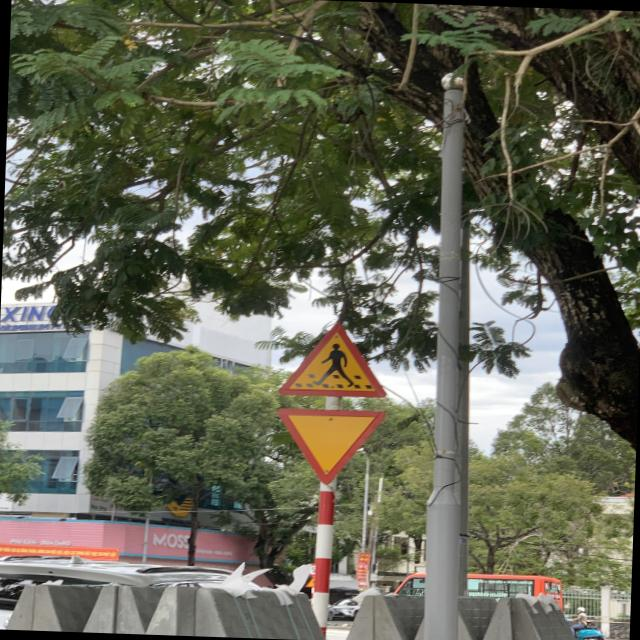Duong_Nguoi_Di_Bo_Sang_Ngang: (279, 322, 386, 396)
Gioi_Han_Toc_Do_25: (273, 406, 386, 486)
